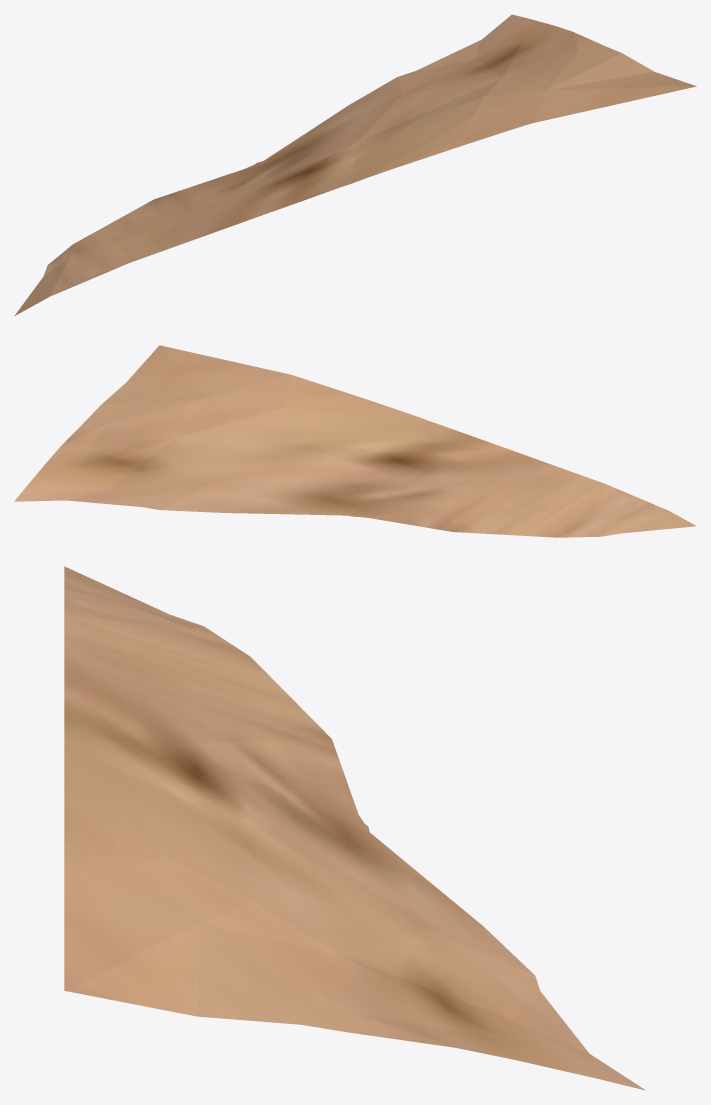
3 views of the same model, one above another, from view 1: azimuth 30°, elevation 25°; view 2: azimuth 150°, elevation 25°; view 3: azimuth 270°, elevation 25° (orthographic). The views are drawn at different scales.
Size of the model in its own units: 0.6499 by 0.0607 by 0.3049.
1 material, 1 textured.
